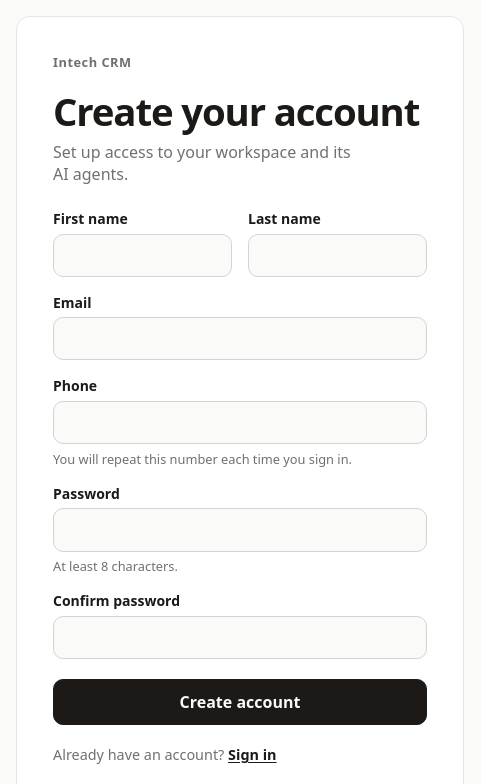
Test: SignUpPage › envia o payload correto e mostra o estado Check your email no sucesso
Type "Ada" into the field labelled "First name" at x=142, y=255, box 53,234 -> 232,277
Type "Lovelace" into the field labelled "Last name" at x=338, y=255, box 248,234 -> 427,277
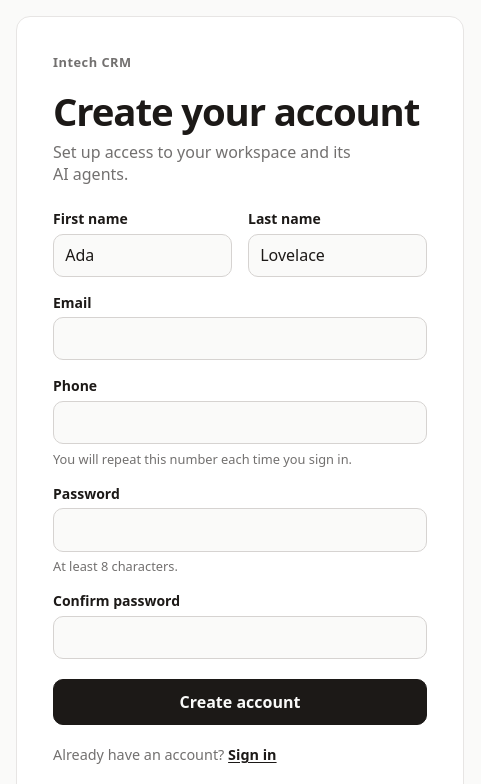
Type "ada@example.com" into the field labelled "Email" at x=240, y=339, box 53,317 -> 427,360
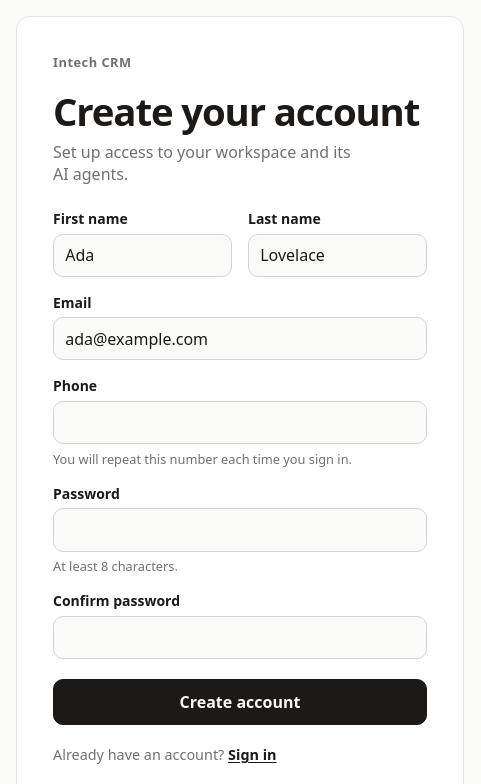
Type "+5511988887777" into the field labelled "Phone" at x=240, y=423, box 53,401 -> 427,444
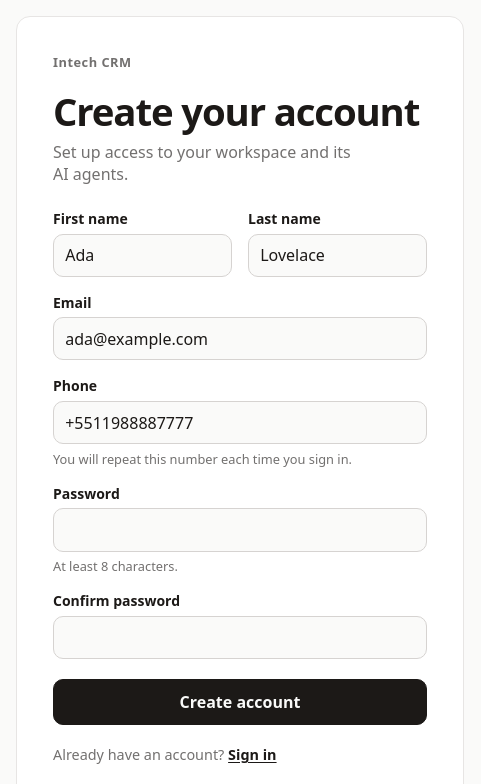
Type "password123" into the password field labelled "Password" at x=240, y=530, box 53,508 -> 427,552
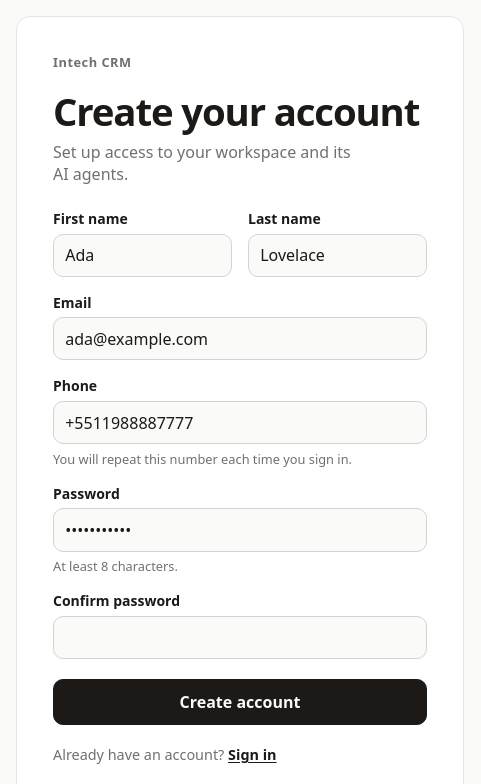
Type "password123" into the password field labelled "Confirm password" at x=240, y=637, box 53,616 -> 427,659
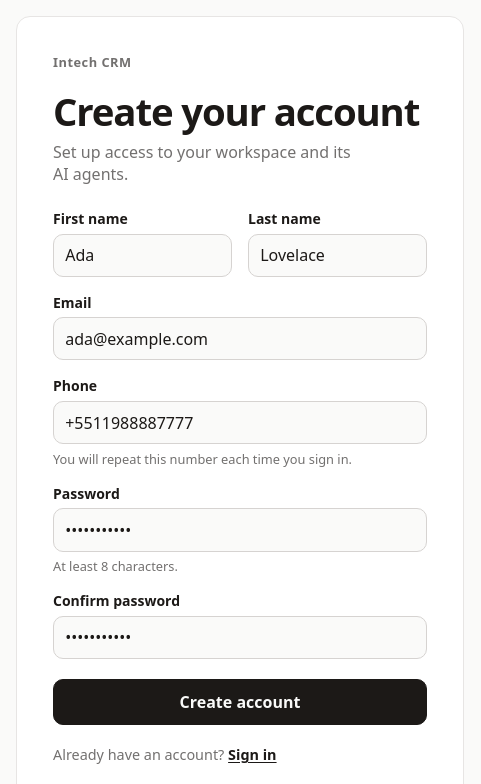
Click the button "Create account" at x=240, y=702, box 53,679 -> 427,725
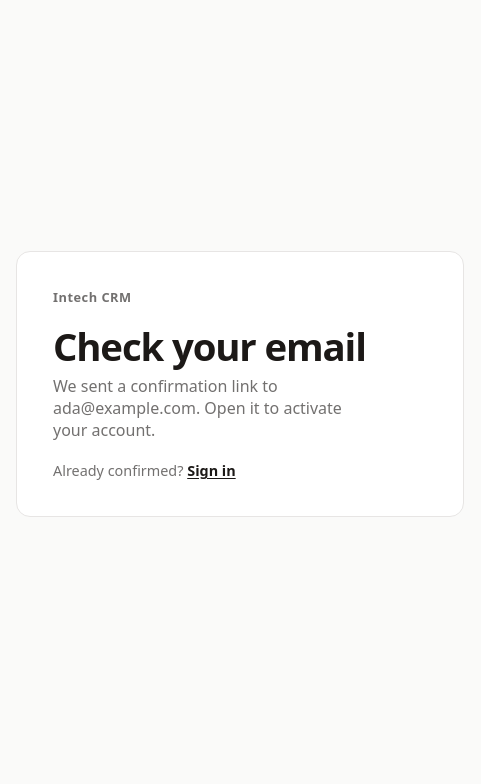
Expected: the heading "Check your email" is shown, 53,320 -> 366,372
